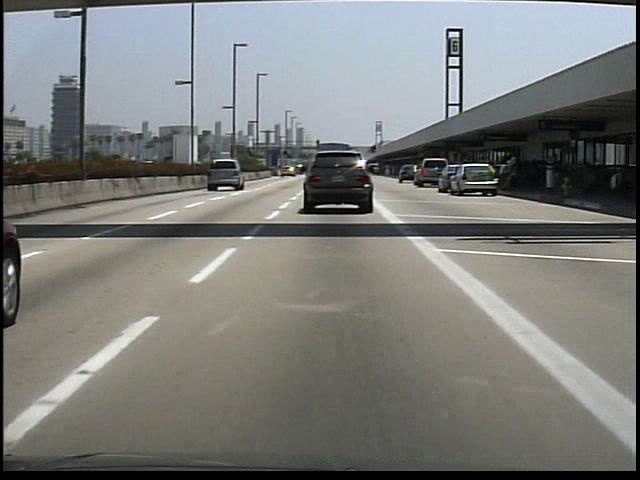person: (505, 151, 528, 192)
